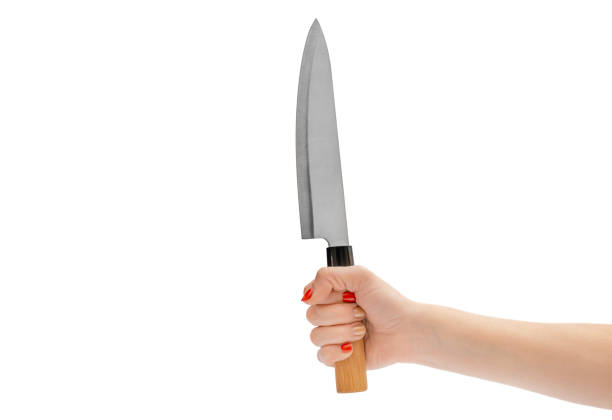knife: (294, 16, 371, 395)
